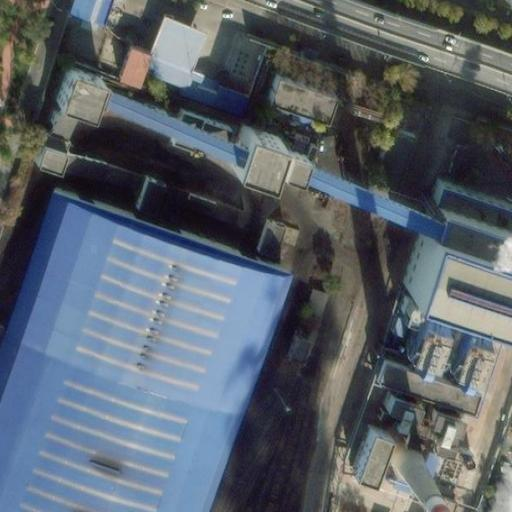building: (391, 223, 512, 322), (412, 194, 512, 255), (369, 355, 474, 409), (422, 170, 512, 224), (135, 11, 197, 87), (335, 377, 383, 470), (281, 284, 332, 366), (440, 310, 492, 378), (390, 293, 438, 355), (220, 119, 274, 173), (175, 67, 241, 111), (267, 65, 331, 110), (165, 106, 223, 151), (245, 214, 290, 266), (344, 417, 379, 473), (57, 79, 98, 122), (109, 37, 144, 82), (126, 170, 160, 213), (31, 130, 66, 171), (419, 397, 453, 439), (372, 382, 409, 420), (266, 132, 298, 165)
